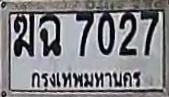0: (97, 11, 114, 54)
2: (118, 12, 136, 54)
7: (75, 10, 94, 56), (140, 10, 158, 55)
A06: (13, 12, 35, 56)
A09: (38, 13, 60, 55)
BKK: (29, 68, 145, 90)
